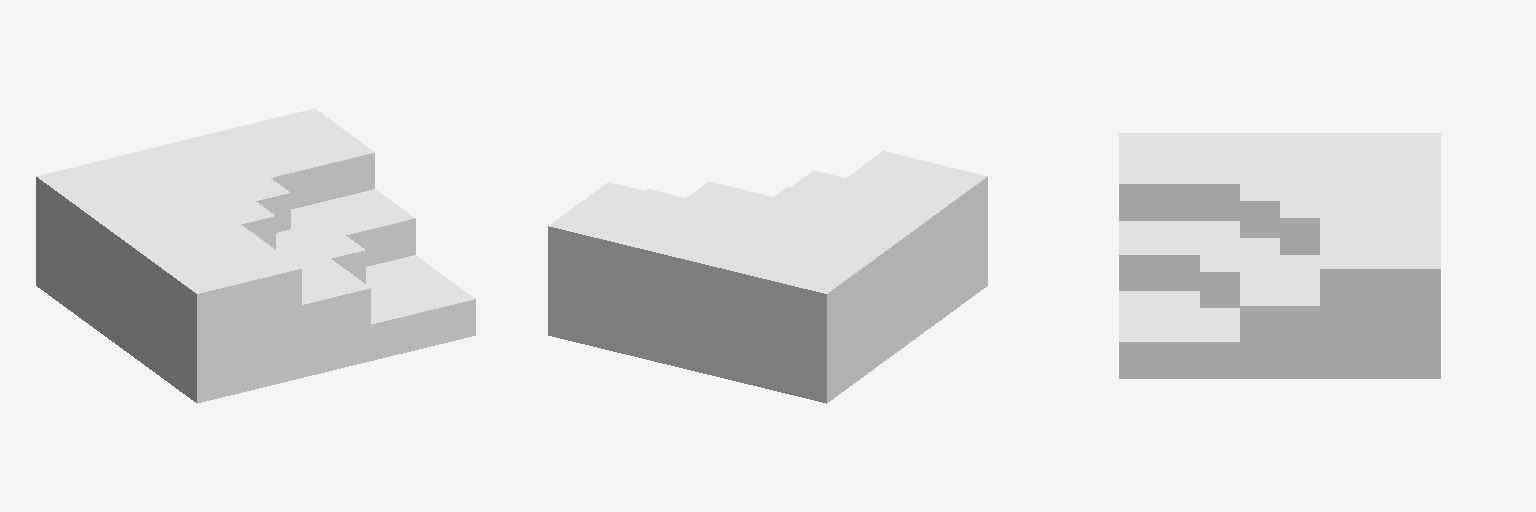
Rendered from beach_turn_180.obj.
3 renders of one model, left to right at view 1: azimuth 30°, elevation 25°; view 2: azimuth 150°, elevation 25°; view 3: azimuth 270°, elevation 25°, orthographic.
Visible parts, largest first — view 1: object 1; view 2: object 1; view 3: object 1.
Part boxes in pixels (bbox=[...]): object 1: bbox=[36, 108, 475, 403]; object 1: bbox=[548, 151, 987, 403]; object 1: bbox=[1119, 133, 1440, 378].
Bounding box in the file's own units: 0.8 × 0.3 × 0.8.